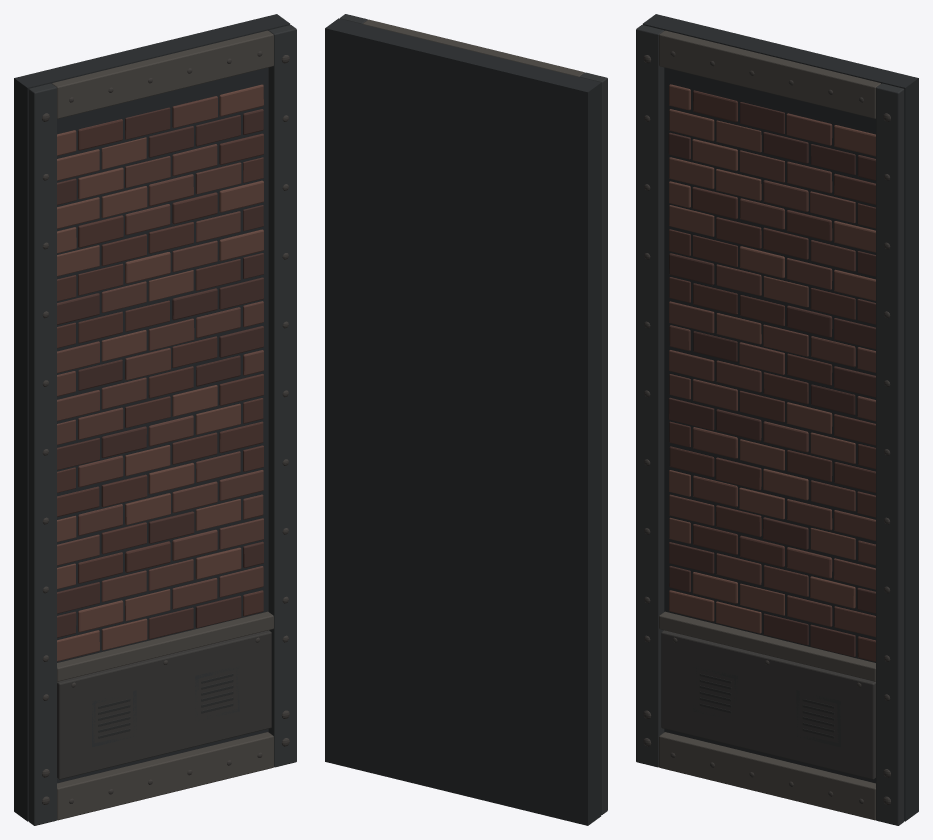
The model's file is STK_ENV_Street_Wall_1p2_A_Production_v4.glb.
3 views of the same model, side by side, from view 1: azimuth 30°, elevation 25°; view 2: azimuth 150°, elevation 25°; view 3: azimuth 330°, elevation 25° (orthographic).
Visible parts, largest first — view 1: WallCore, Frame_Left, ServicePanel, Frame_Right, Frame_Header, Frame_Footer, Brick_LowerTrim, Brick_06_01, Brick_04_02, Brick_00_03, Brick_11_02, Brick_18_01 (+83 smaller); view 2: WallCore, Frame_Left, Frame_Header; view 3: WallCore, Frame_Right, ServicePanel, Frame_Left, Frame_Header, Frame_Footer, Brick_LowerTrim, Brick_06_01, Brick_08_00, Brick_11_02, Brick_21_03, Brick_17_01 (+85 smaller).
Boxes of the visible parts, x1,y1,x2,y2 form: WallCore: (14, 14, 290, 821); Frame_Left: (28, 83, 56, 825); ServicePanel: (57, 630, 271, 779); Frame_Right: (268, 25, 296, 767); Frame_Header: (52, 30, 273, 118); Frame_Footer: (57, 732, 273, 820); Brick_LowerTrim: (57, 611, 273, 681); Brick_06_01: (101, 474, 147, 507); Brick_04_02: (148, 511, 194, 543); Brick_00_03: (195, 595, 241, 628); Brick_11_02: (125, 348, 170, 380); Brick_18_01: (101, 186, 147, 218); WallCore: (325, 18, 601, 825); Frame_Left: (580, 72, 607, 814); Frame_Header: (363, 19, 584, 76); WallCore: (642, 14, 918, 821); Frame_Right: (876, 83, 904, 825); ServicePanel: (661, 630, 875, 779); Frame_Left: (636, 25, 664, 767); Frame_Header: (659, 30, 880, 118); Frame_Footer: (659, 732, 875, 820); Brick_LowerTrim: (659, 611, 875, 681); Brick_06_01: (715, 457, 761, 490); Brick_08_00: (668, 397, 714, 430); Brick_11_02: (739, 342, 784, 374); Brick_21_03: (786, 113, 832, 145); Brick_17_01: (692, 187, 737, 219).
Bounding box in the file's own units: 1.2 × 3.2 × 0.167.
